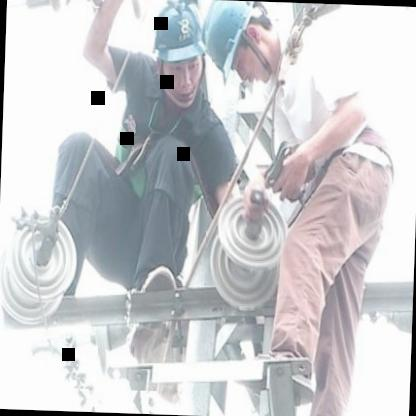helmet: (201, 0, 273, 85), (149, 0, 207, 103)
